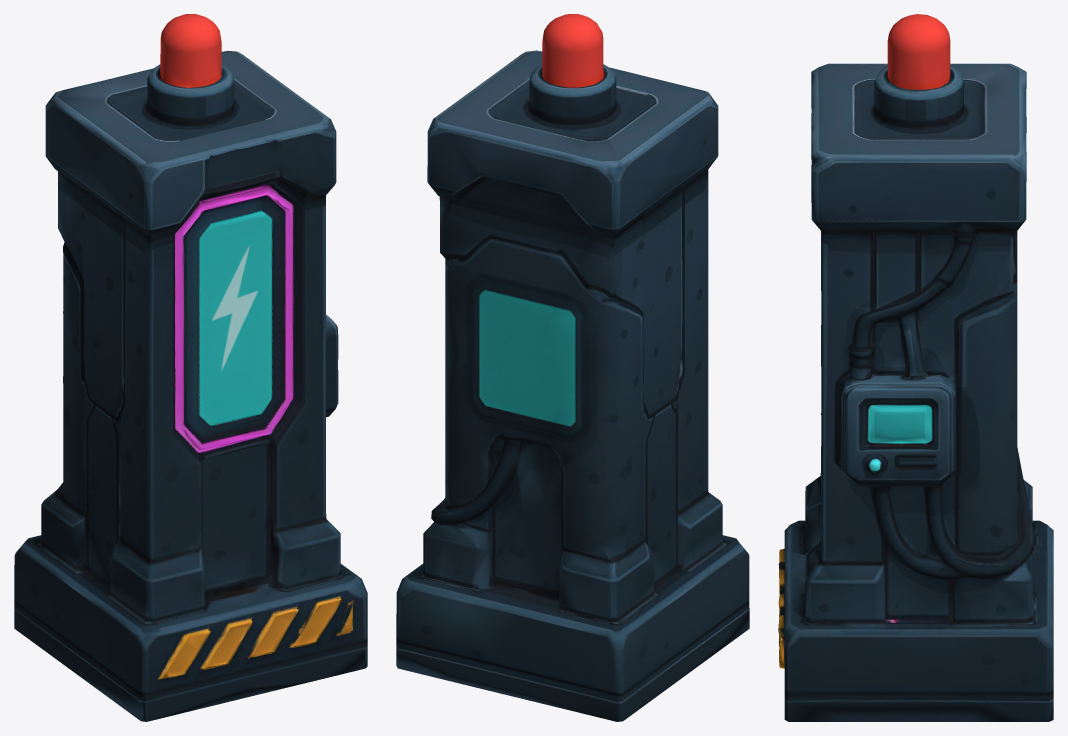
The model's file is Turret.fbx.
The picture shows the model from 3 angles, left to right: view 1: azimuth 30°, elevation 25°; view 2: azimuth 150°, elevation 25°; view 3: azimuth 270°, elevation 25°; orthographic projection. The views are drawn at different scales.
Parts seen in each view (by area): view 1: tripo_node_8ad89421; view 2: tripo_node_8ad89421; view 3: tripo_node_8ad89421.
Boxes of the visible parts, x1,y1,x2,y2 form: tripo_node_8ad89421: [14, 14, 367, 721]; tripo_node_8ad89421: [396, 14, 749, 721]; tripo_node_8ad89421: [778, 14, 1053, 721].
Bounding box in the file's own units: 0.386 × 0.9996 × 0.3857.
Materials: 1 (1 with a texture image).
